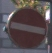No entry: (6, 5, 47, 48)
